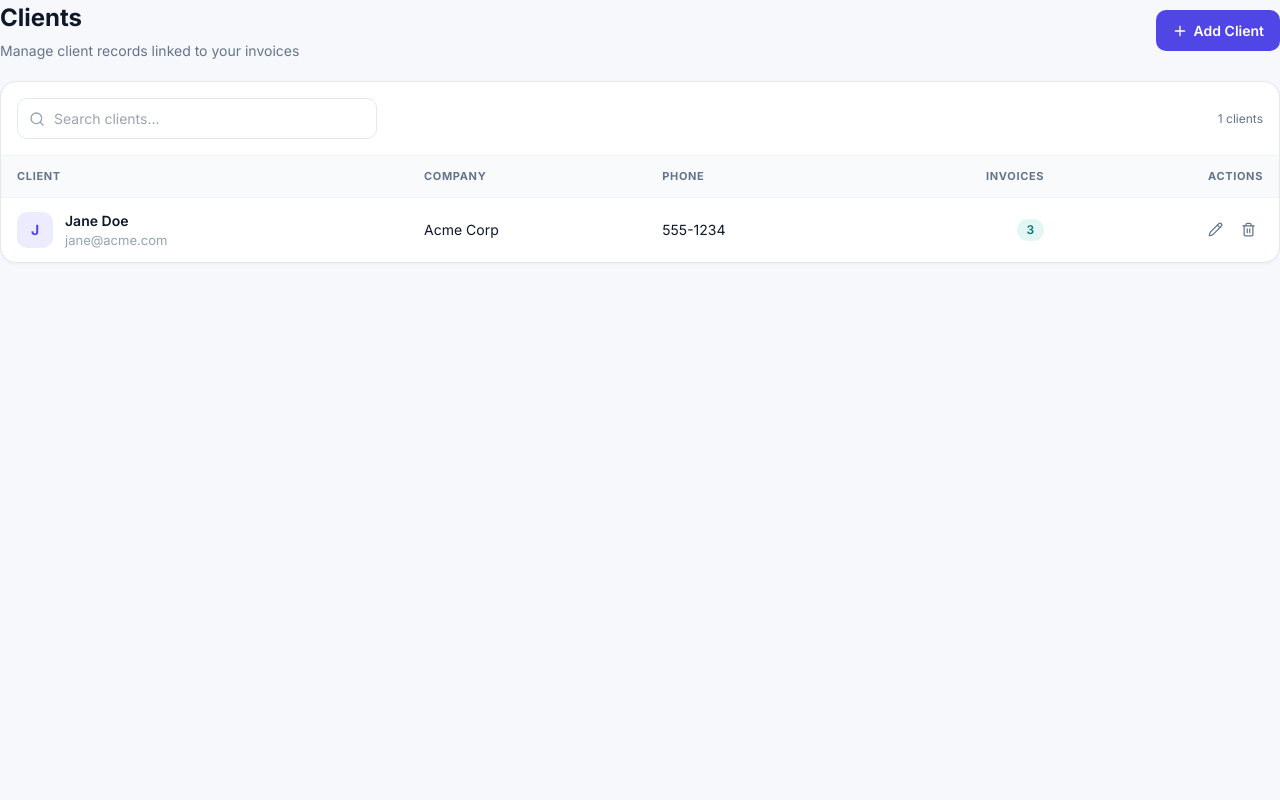
Clients page › opens detail drawer with client invoices
Click the text "Jane Doe" at [97, 220], box [65, 212, 128, 228]
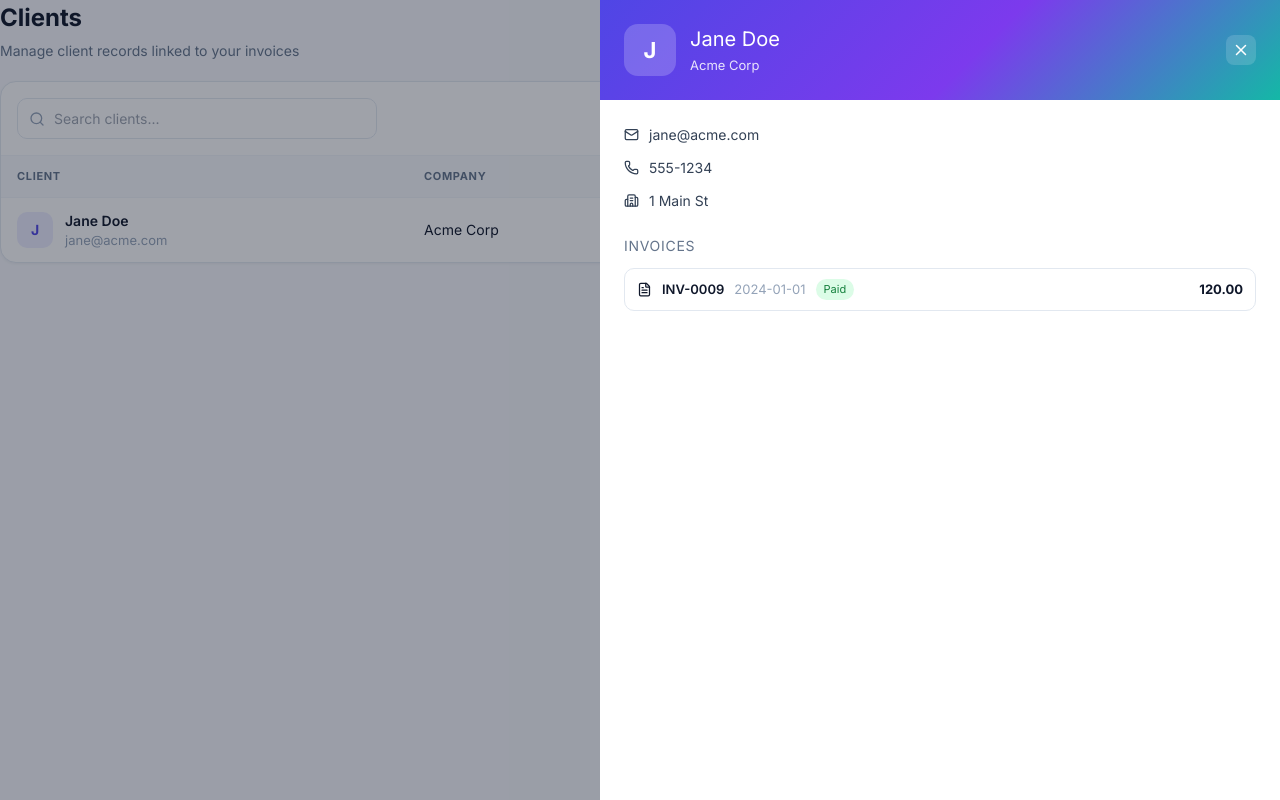
expect the text "INV-0009" is shown: met, box [662, 280, 724, 299]
